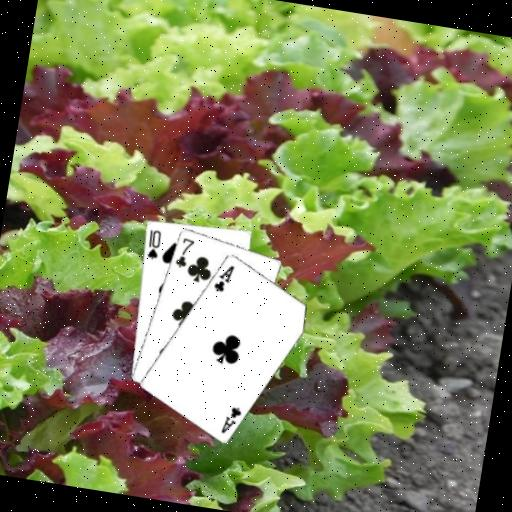10S: (142, 225, 163, 261)
7C: (171, 233, 196, 270)
AC: (210, 259, 237, 295), (217, 402, 243, 437)
